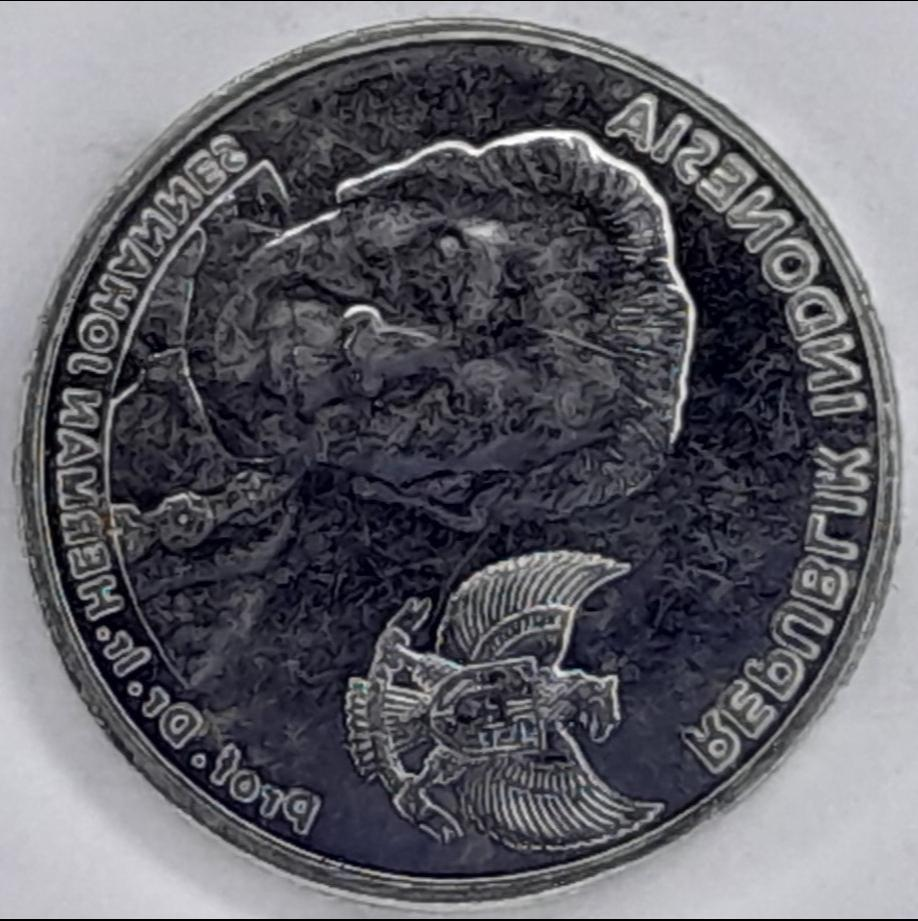coin_100_e2016: (11, 11, 905, 910)
